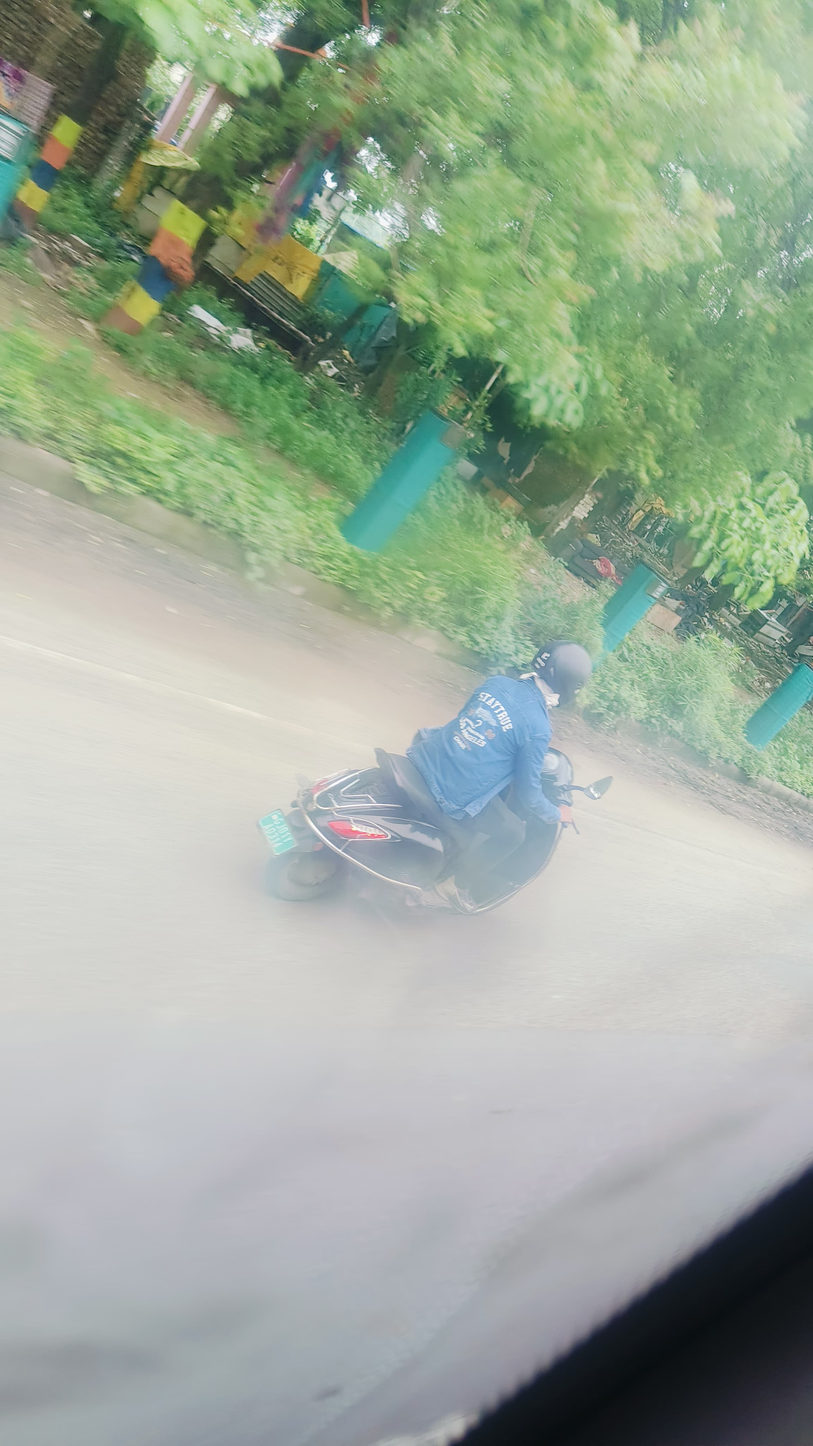BikeWithRider: (241, 629, 626, 949)
Helmet: (520, 633, 604, 713)
